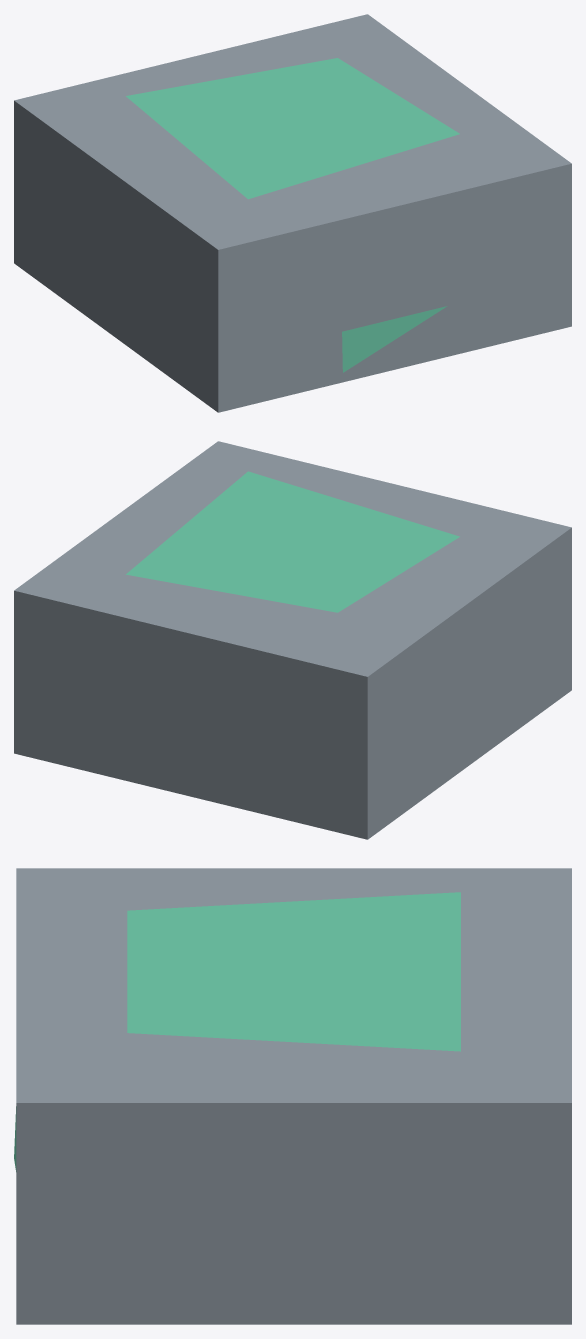
File: CO_Refinery_LOD1.glb
3 renders of one model, top to bottom at view 1: azimuth 30°, elevation 25°; view 2: azimuth 150°, elevation 25°; view 3: azimuth 270°, elevation 25°, orthographic. The views are drawn at different scales.
Parts seen in each view (by area): view 1: EntranceGate; view 2: EntranceGate; view 3: EntranceGate.
Part boxes in pixels (box(x1,y1,x2,y2)): EntranceGate: box(14, 14, 571, 412); EntranceGate: box(14, 441, 571, 839); EntranceGate: box(14, 868, 571, 1324).
Bounding box in the file's own units: 800 × 389 × 803.
